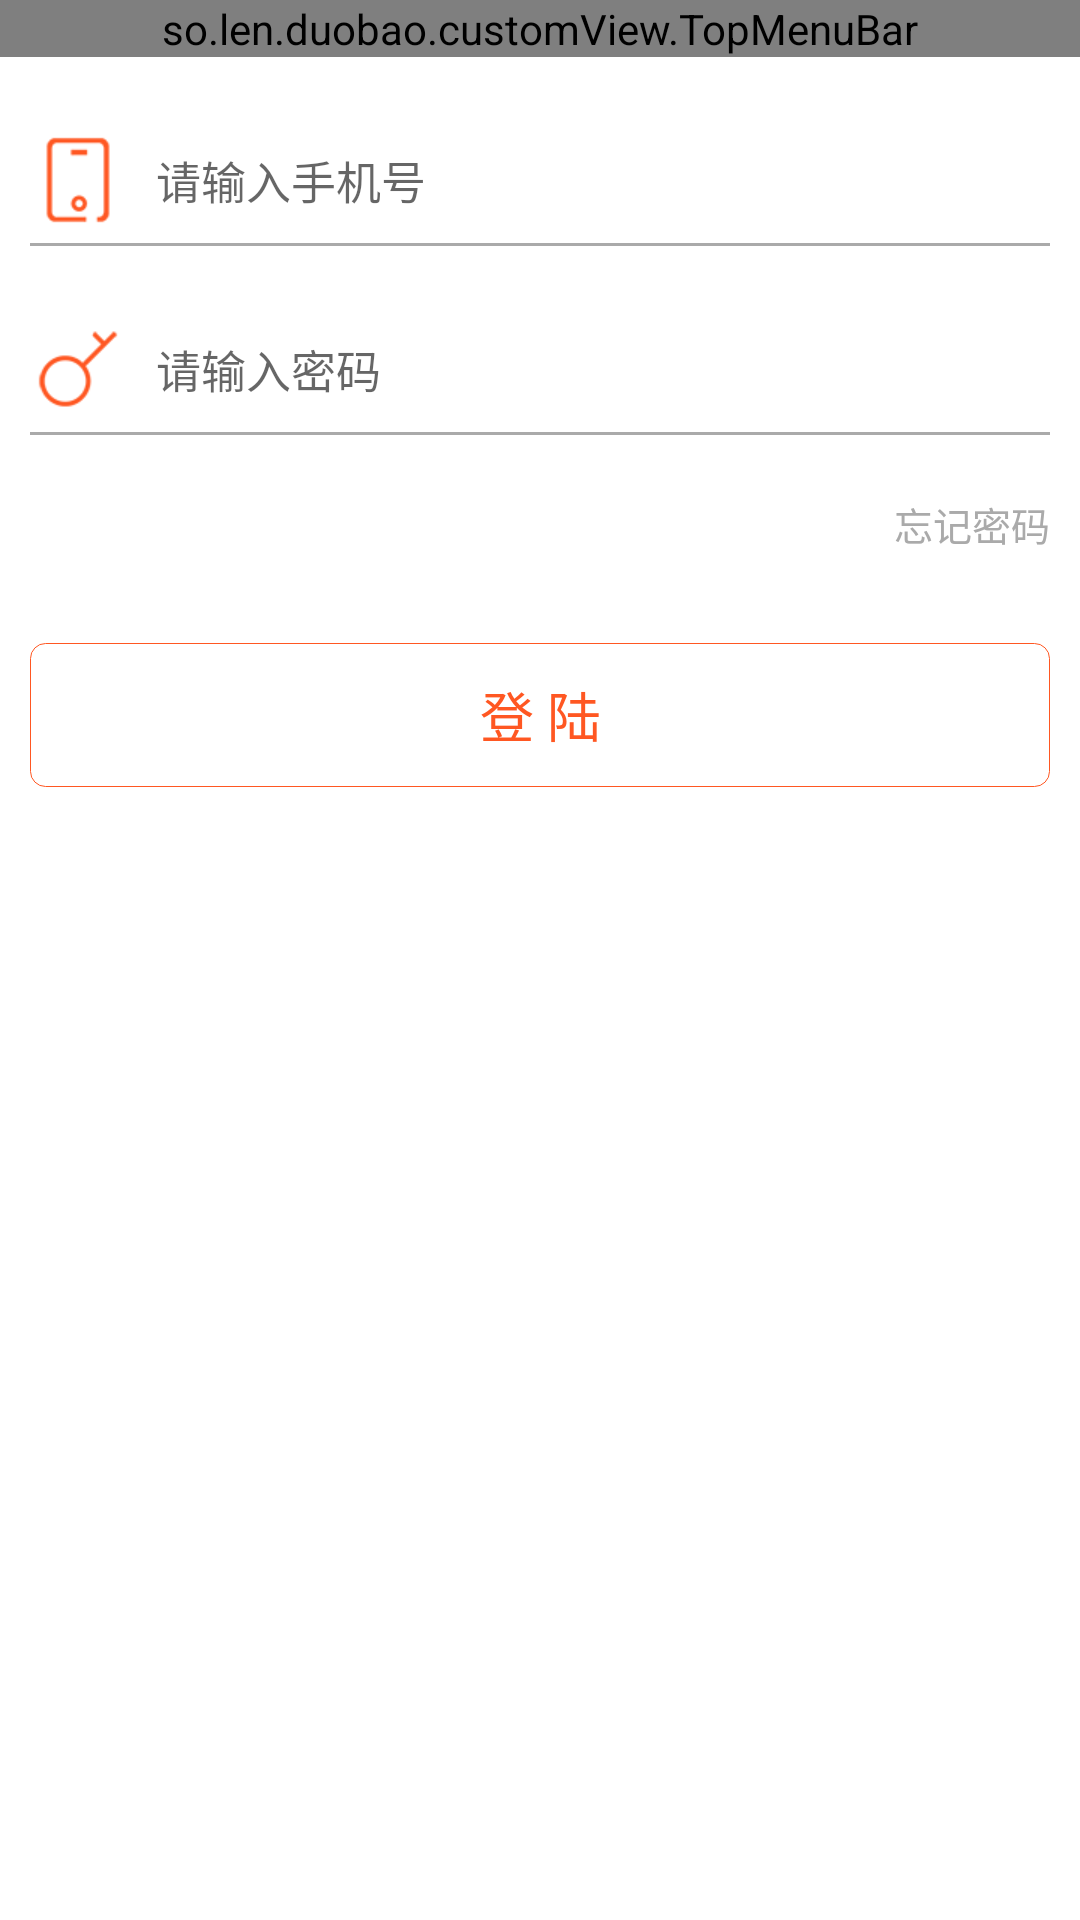

Icon bounding boxes for this 1080px×1920px phone screenshot, format (x1, y1, x2, y2):
password: (39, 331, 117, 407)
phone: (46, 137, 110, 223)
